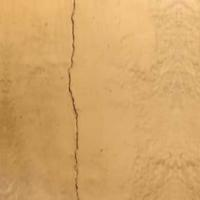crack: (50, 0, 121, 199)
